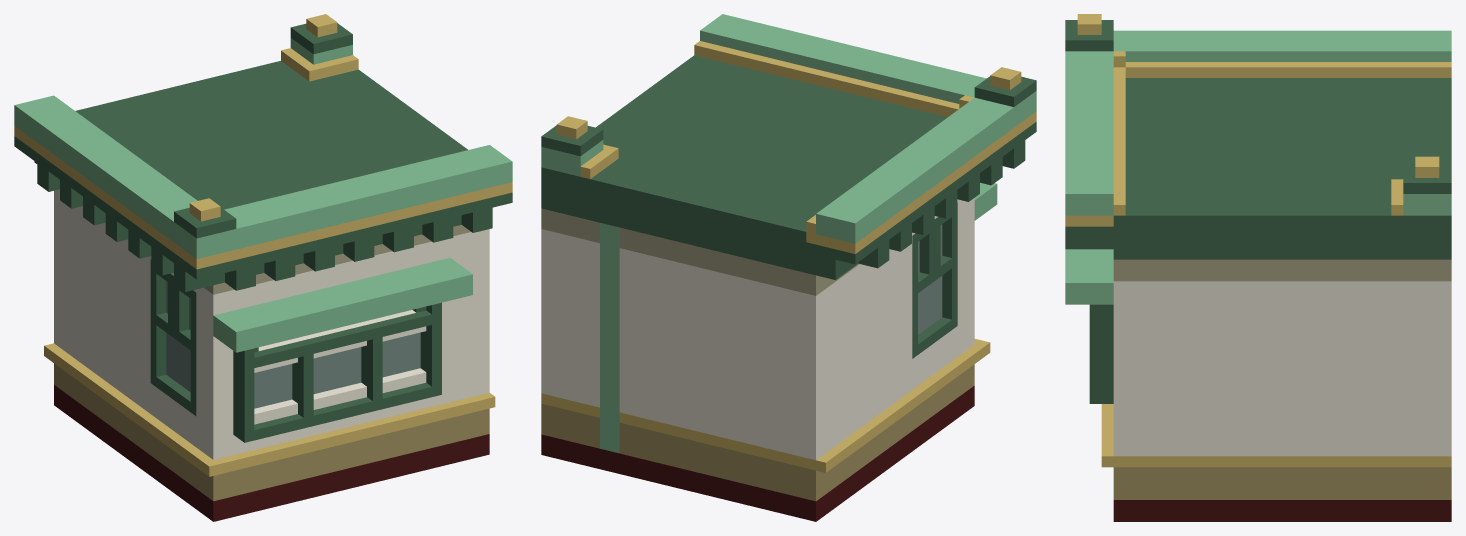
File: tile_1_left_nb_corner_90.obj
3 renders of one model, left to right at view 1: azimuth 30°, elevation 25°; view 2: azimuth 150°, elevation 25°; view 3: azimuth 270°, elevation 25°, orthographic. The views are drawn at different scales.
Size of the model in its own units: 3.2 by 3.2 by 3.2.
Materials: 1 (1 with a texture image).
